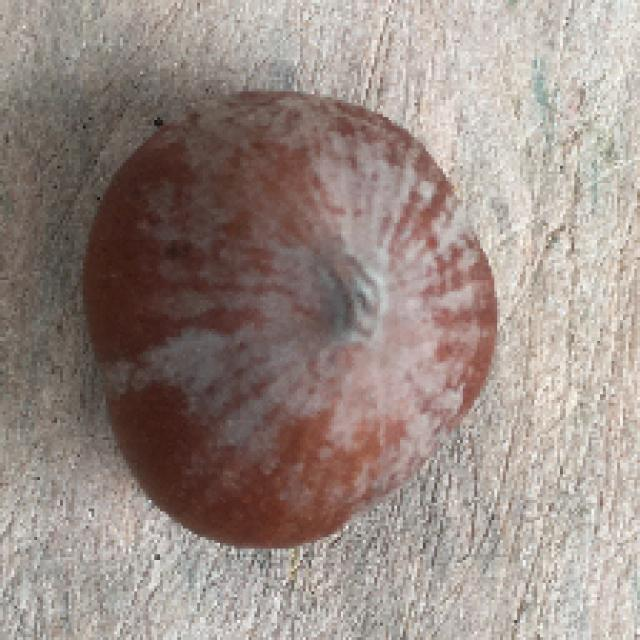QualityHazelnut: (83, 86, 497, 549)
